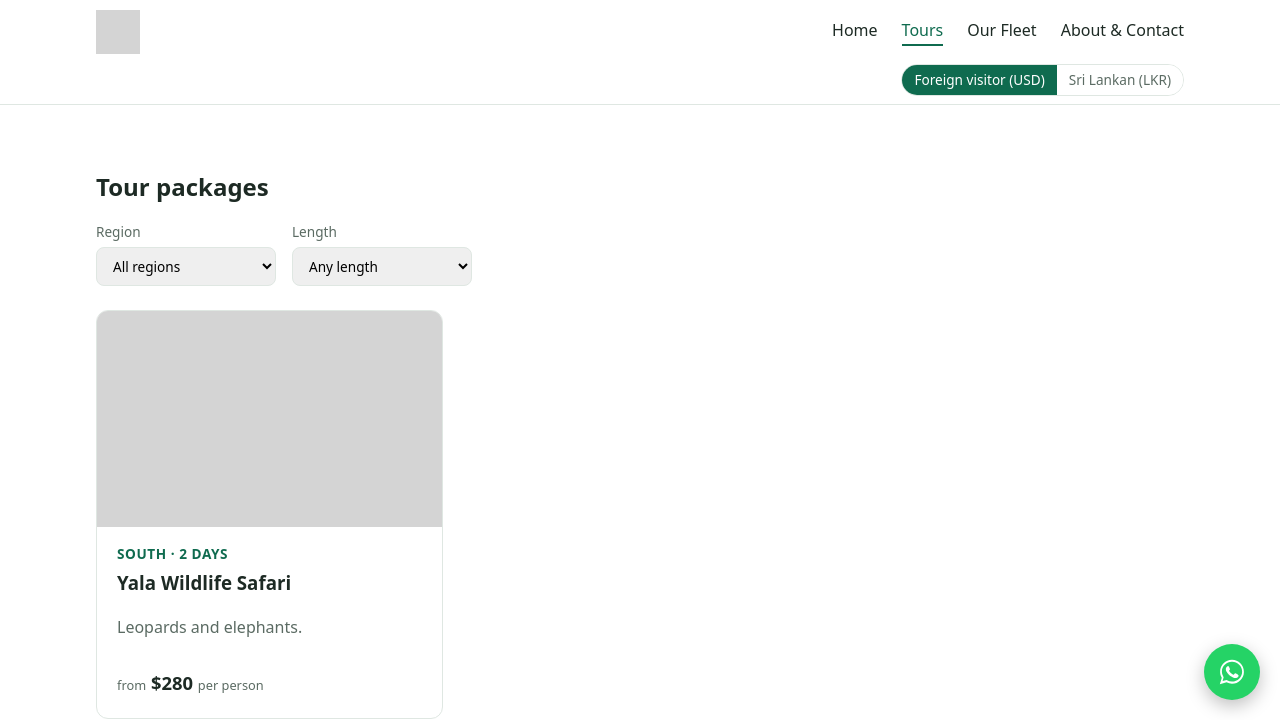
Test: pages › lists tours and switches prices to LKR for locals
Expected: the heading "Yala Wildlife Safari" is shown, x1=117 y1=570 x2=291 y2=595
Expected: the text "from $280 per person" is shown, x1=117 y1=670 x2=264 y2=695
Click the button "Sri Lankan (LKR)": (1120, 80) x1=1057 y1=65 x2=1183 y2=95
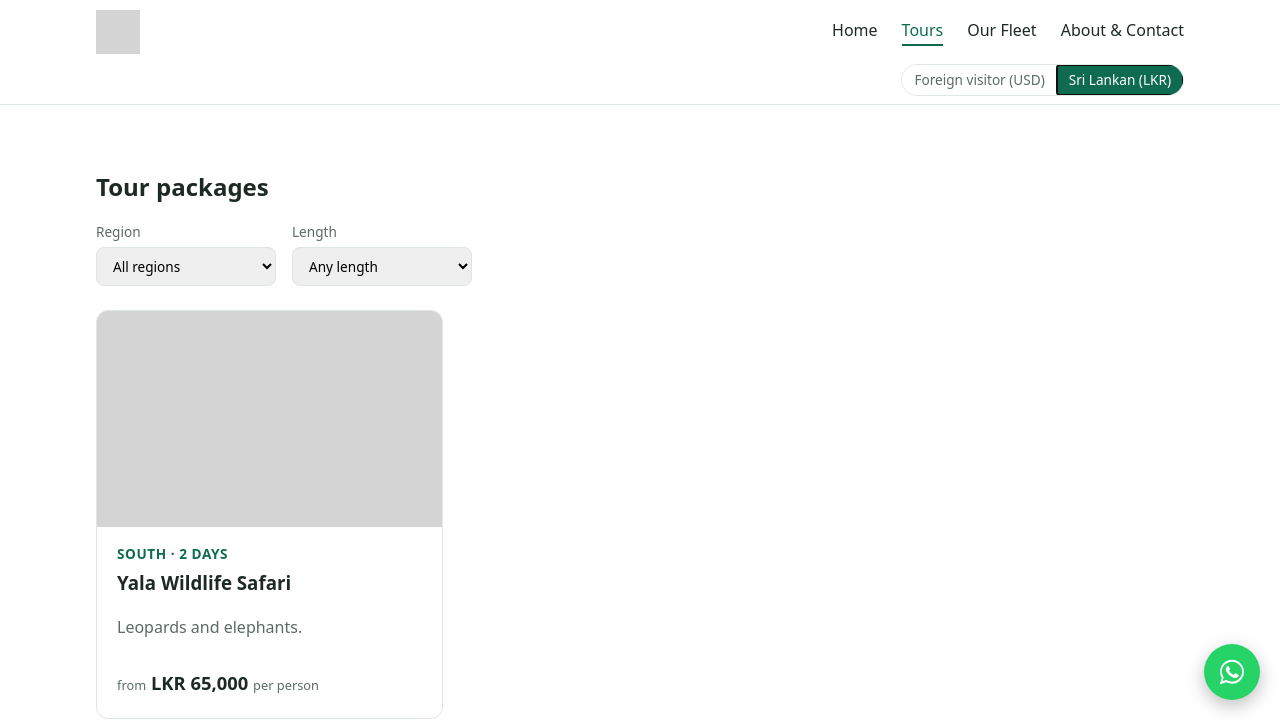
Expected: the text "from LKR 65,000 per person" is shown, x1=117 y1=670 x2=319 y2=695
